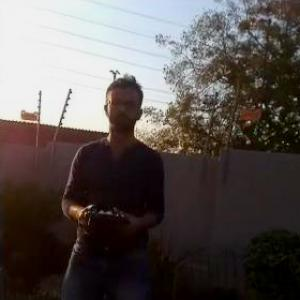follow: (54, 66, 170, 299)
